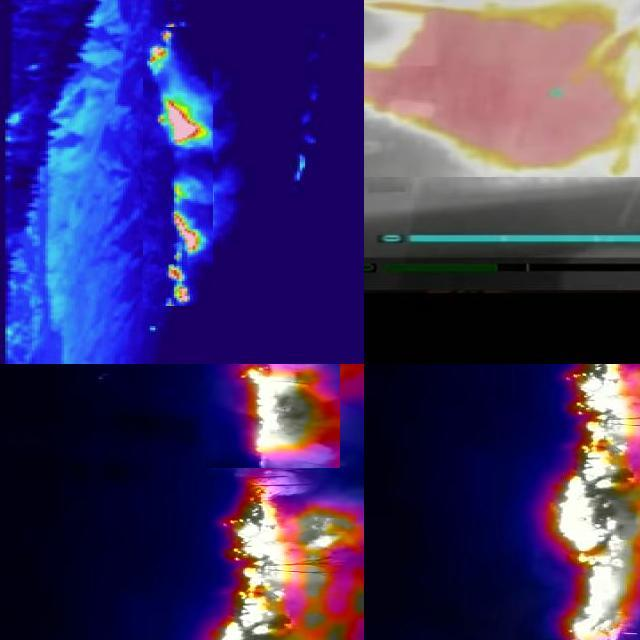fire: (365, 1, 640, 177), (205, 467, 365, 640), (548, 365, 640, 640), (144, 27, 214, 306), (206, 365, 341, 468)
